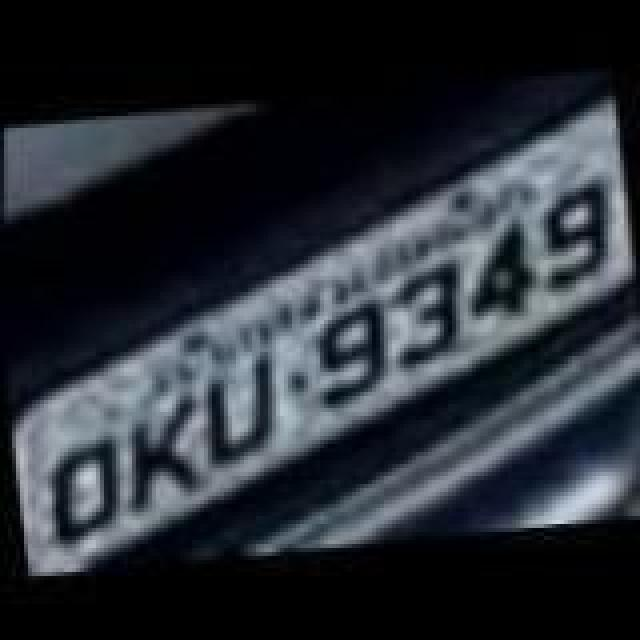3: (384, 260, 468, 372)
4: (462, 218, 542, 322)
9: (308, 296, 400, 412), (540, 174, 620, 290)
K: (116, 392, 204, 516)
O: (42, 434, 130, 550)
U: (196, 350, 284, 466)
